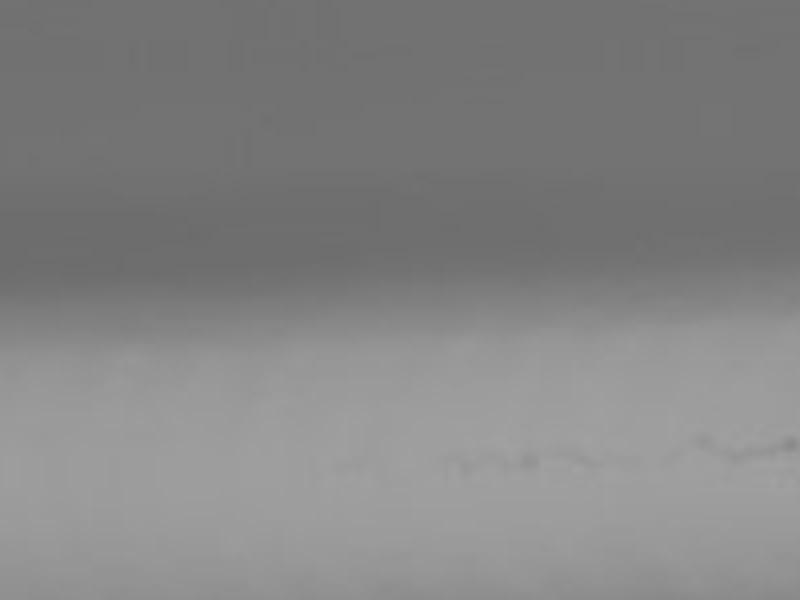defect: (729, 442, 796, 463), (687, 425, 713, 457), (515, 451, 538, 474)
